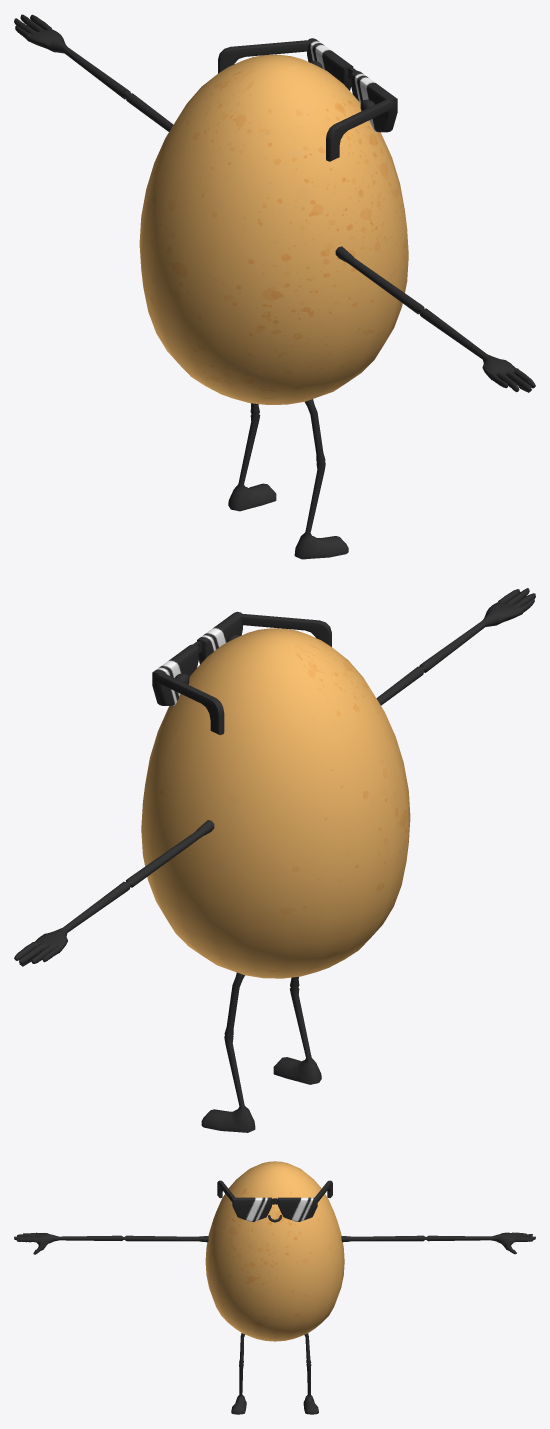
The model's file is Cool_Egg.glb.
3 renders of one model, top to bottom at view 1: azimuth 30°, elevation 25°; view 2: azimuth 150°, elevation 25°; view 3: azimuth 270°, elevation 25°, orthographic. The views are drawn at different scales.
Parts seen in each view (by area): view 1: _100Avatars_189_CoolEgg; view 2: _100Avatars_189_CoolEgg; view 3: _100Avatars_189_CoolEgg.
Boxes of the visible parts, <box> form: _100Avatars_189_CoolEgg: <box>14,14,535,559</box>; _100Avatars_189_CoolEgg: <box>14,588,535,1132</box>; _100Avatars_189_CoolEgg: <box>14,1161,535,1414</box>.
Size of the model in its own units: 1.37 by 2.6 by 5.13.
1 material, 1 textured.
